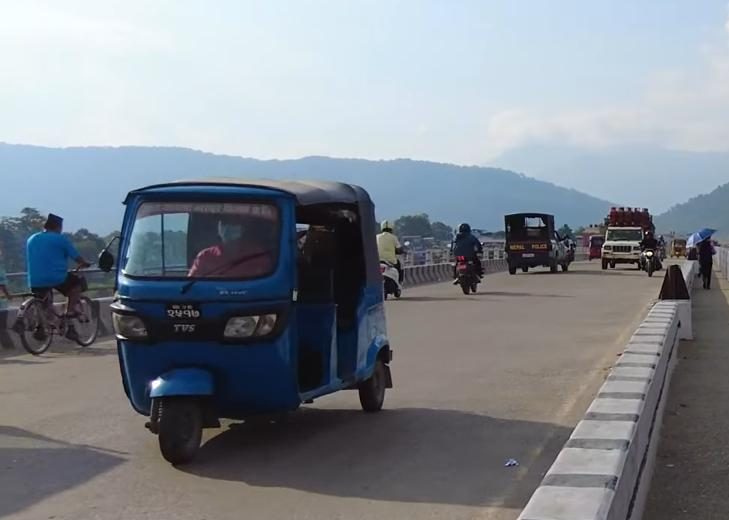auto_rickshaw: (104, 175, 398, 468)
